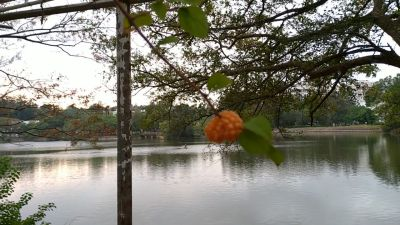eggs: (204, 107, 247, 142)
